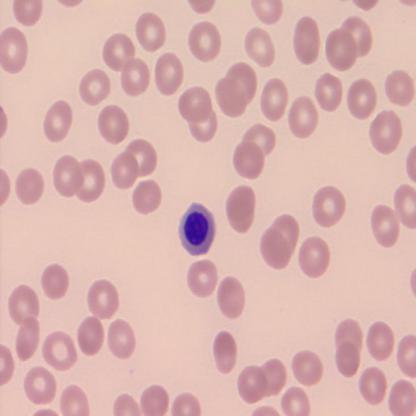NRC: (178, 200, 216, 257)
